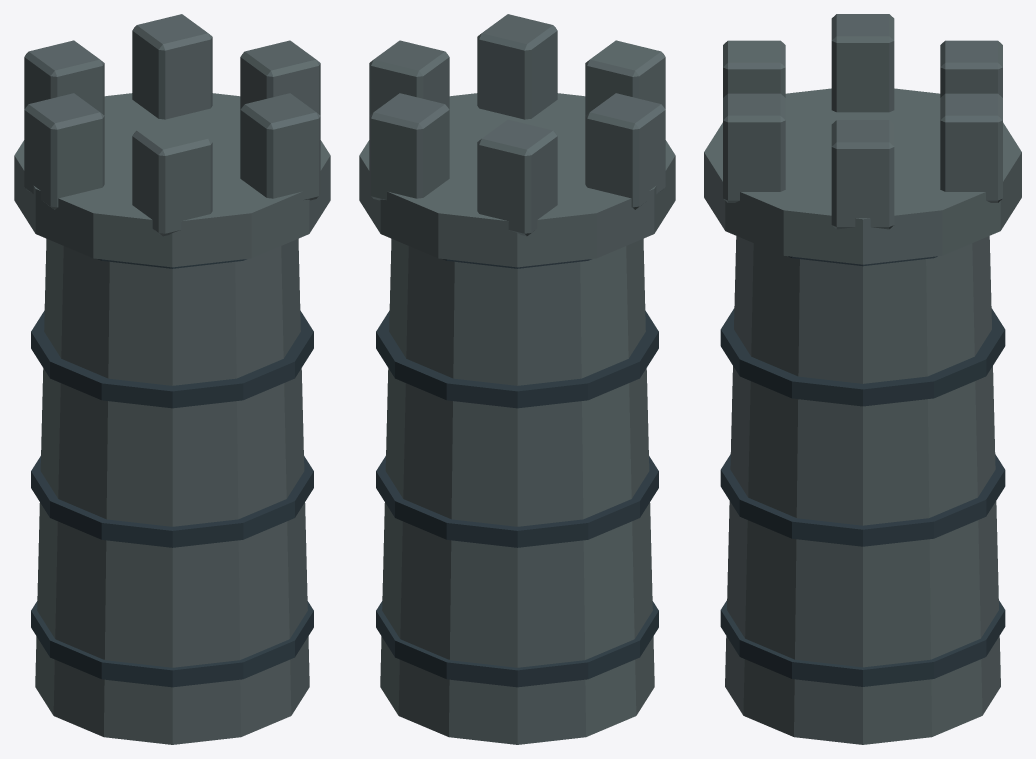
The model's file is WallCorner.fbx.
The picture shows the model from 3 angles, left to right: view 1: azimuth 30°, elevation 25°; view 2: azimuth 150°, elevation 25°; view 3: azimuth 270°, elevation 25°; orthographic projection.
Parts seen in each view (by area): view 1: WallCorner_Mesh; view 2: WallCorner_Mesh; view 3: WallCorner_Mesh.
Part boxes in pixels (x1=…): WallCorner_Mesh: x1=14, y1=14, x2=330, y2=744; WallCorner_Mesh: x1=359, y1=14, x2=675, y2=744; WallCorner_Mesh: x1=704, y1=14, x2=1021, y2=744.
Size of the model in its own units: 0.76 by 1.61 by 0.76.
